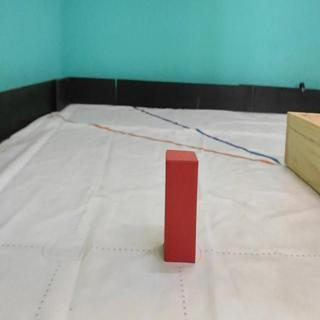redbox: (163, 149, 197, 263)
